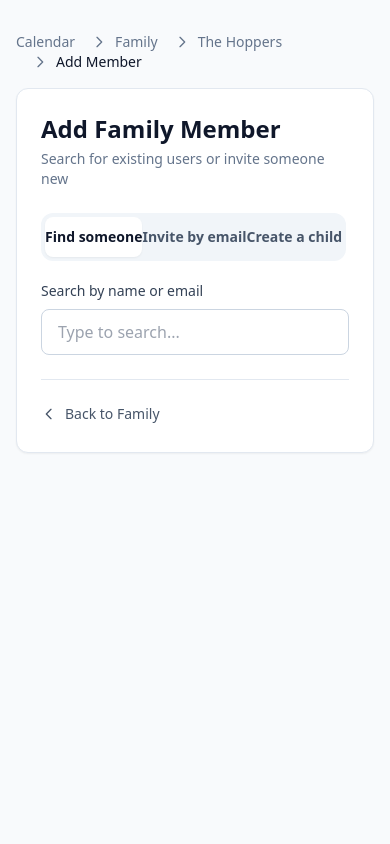
Test: add a member — the approved three tabs (issue 124) › switches panes when a tab is chosen
Click the tab "Create a child" at (294, 237), box [246,217,342,257]
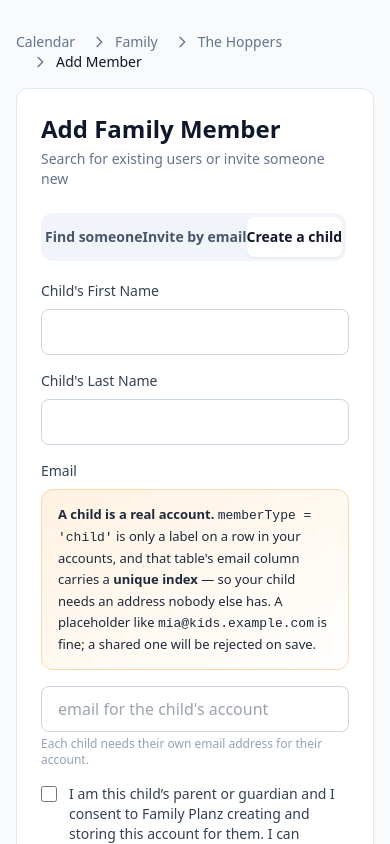
Now the field labelled "Child's First Name" is shown, box [41,309,349,355]
Now the label labelled "Search by name or email" is gone
